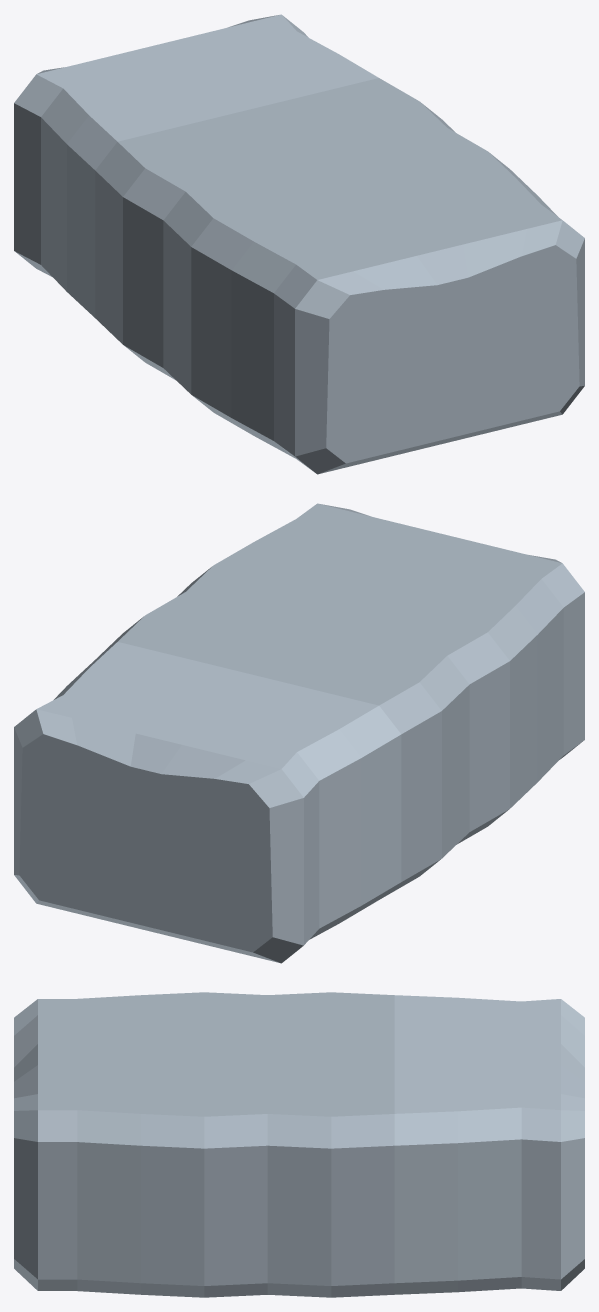
Rendered from pillar_heavy_a.glb.
3 renders of one model, top to bottom at view 1: azimuth 30°, elevation 25°; view 2: azimuth 150°, elevation 25°; view 3: azimuth 270°, elevation 25°, orthographic. The views are drawn at different scales.
Parts seen in each view (by area): view 1: pillar_heavy_a; view 2: pillar_heavy_a; view 3: pillar_heavy_a.
Boxes of the visible parts, box(x1,y1,x2,y2) form: pillar_heavy_a: box(14, 14, 584, 474); pillar_heavy_a: box(14, 503, 584, 963); pillar_heavy_a: box(14, 992, 584, 1297).
Size of the model in its own units: 4.5 by 2.62 by 7.5.
